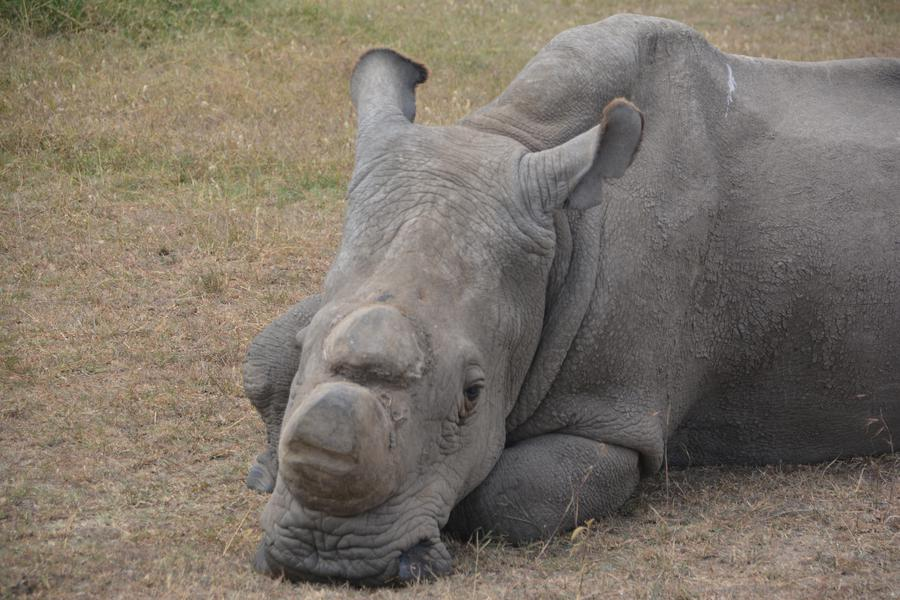rhino: (236, 36, 881, 561)
